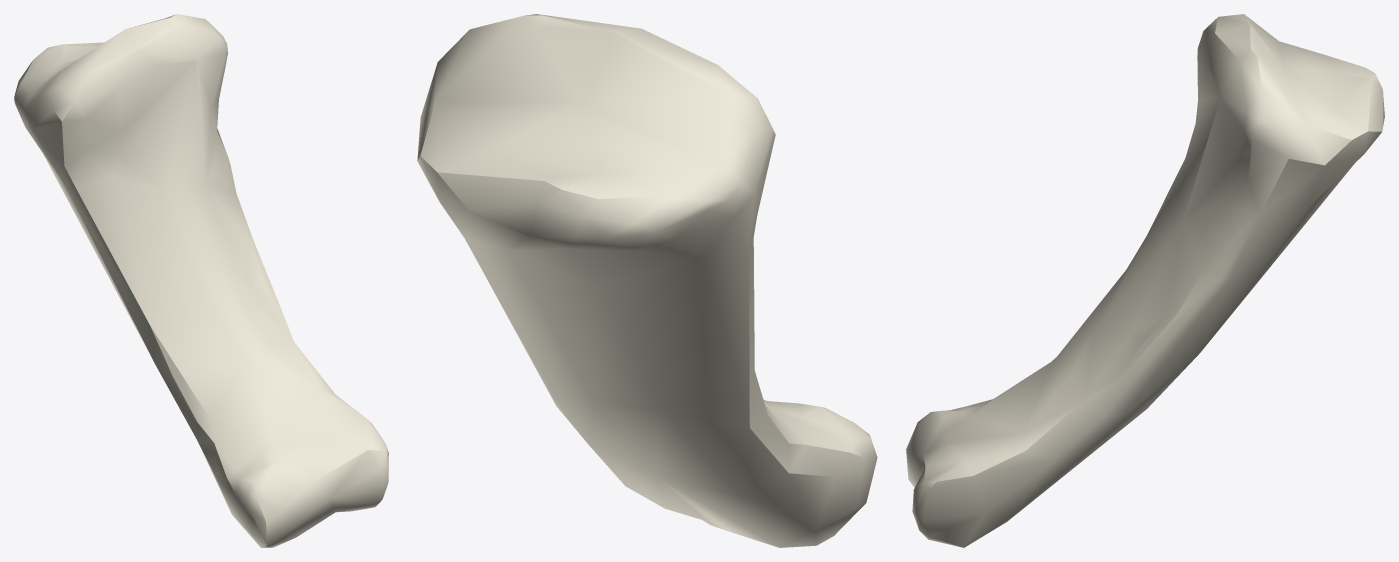
Rendered from fma24456_fj6408.glb.
3 renders of one model, left to right at view 1: azimuth 30°, elevation 25°; view 2: azimuth 150°, elevation 25°; view 3: azimuth 270°, elevation 25°, orthographic. The views are drawn at different scales.
Visible parts, largest first — view 1: FMA24456_FJ6408; view 2: FMA24456_FJ6408; view 3: FMA24456_FJ6408.
Part boxes in pixels (x1,y1,x2,y2): FMA24456_FJ6408: (14, 14, 388, 547); FMA24456_FJ6408: (417, 14, 877, 547); FMA24456_FJ6408: (906, 14, 1384, 547).
Bounding box in the file's own units: 0.0136 × 0.0254 × 0.023.
